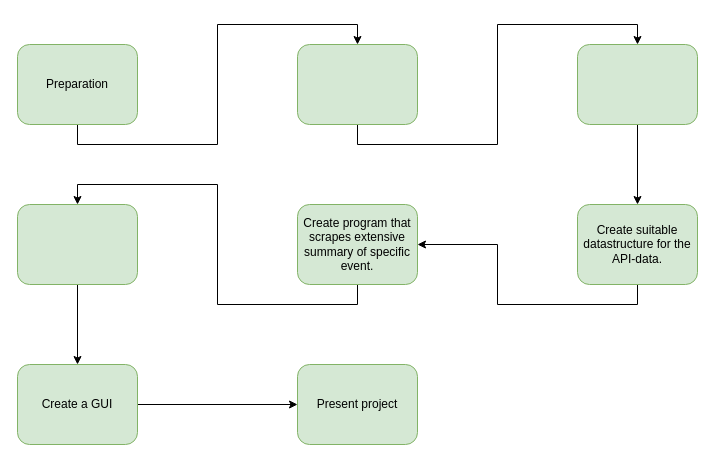
Image size: 715x462. Some labels were removed from this diagram. The centre of each missing label's shape, as x and y in pixels:
"Create a basic terminal program" goes at (77,244).
"Create program that fetches API-data and writes it into file." goes at (357,84).
"Get latest data from API and update file." goes at (637,84).
